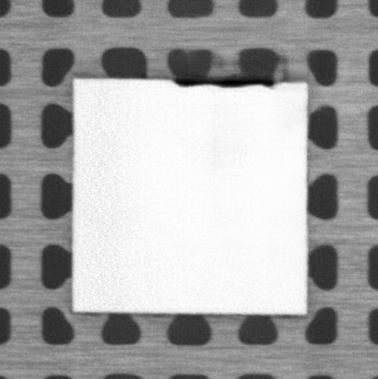DIE_BROKEN: (172, 75, 274, 89)
